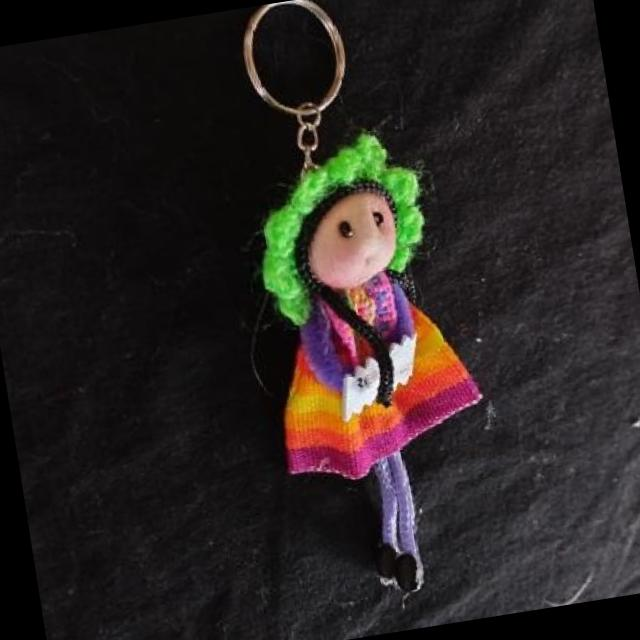Llavero: (235, 118, 514, 611)
